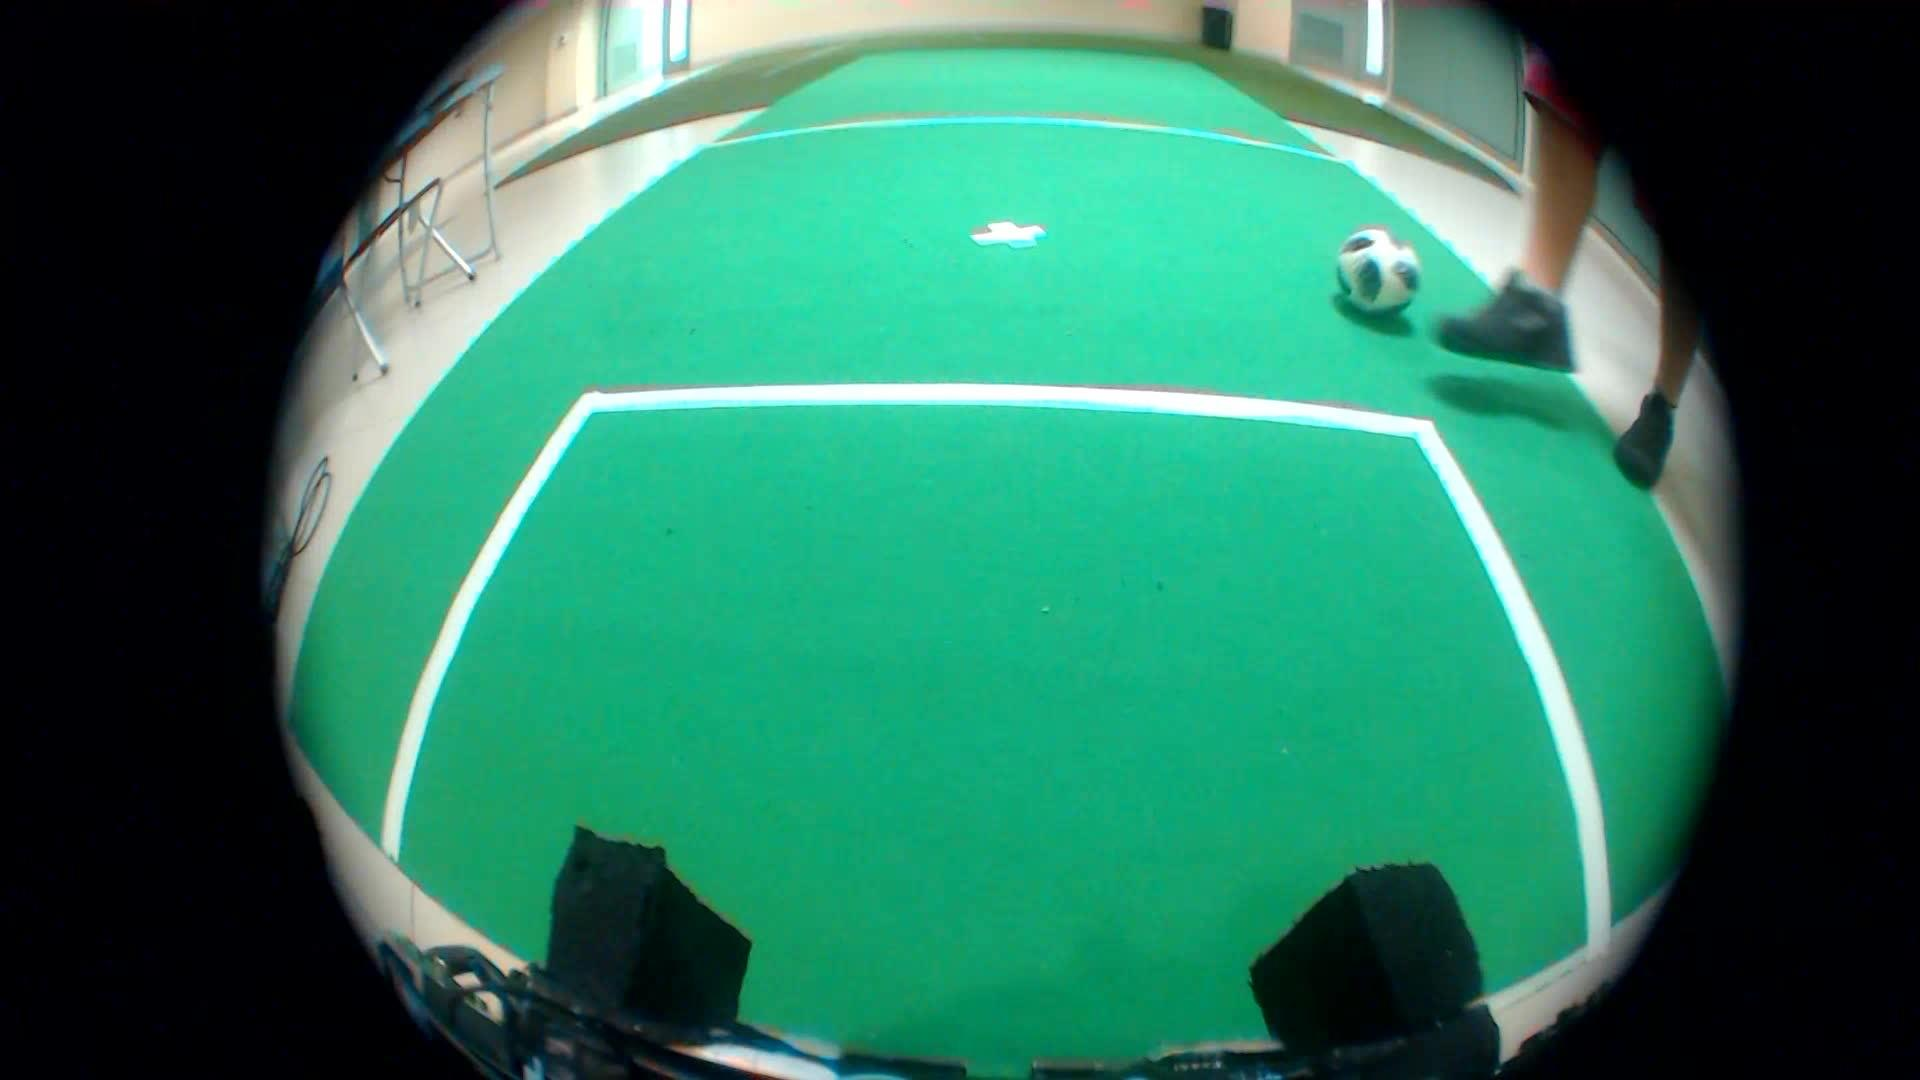ball: (1328, 222, 1429, 328)
